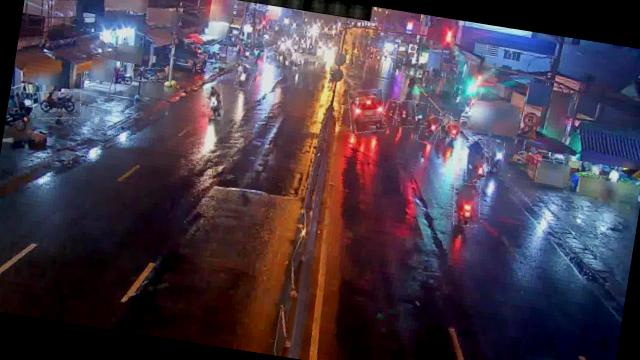Bike: (30, 87, 83, 124), (451, 182, 484, 228), (462, 138, 490, 182), (200, 82, 226, 120), (418, 112, 443, 145), (393, 99, 418, 128), (132, 64, 168, 84), (488, 139, 507, 174), (408, 100, 429, 126), (235, 64, 255, 90), (445, 119, 463, 146), (438, 110, 454, 140), (383, 99, 400, 126)
Car: (345, 86, 390, 136)
